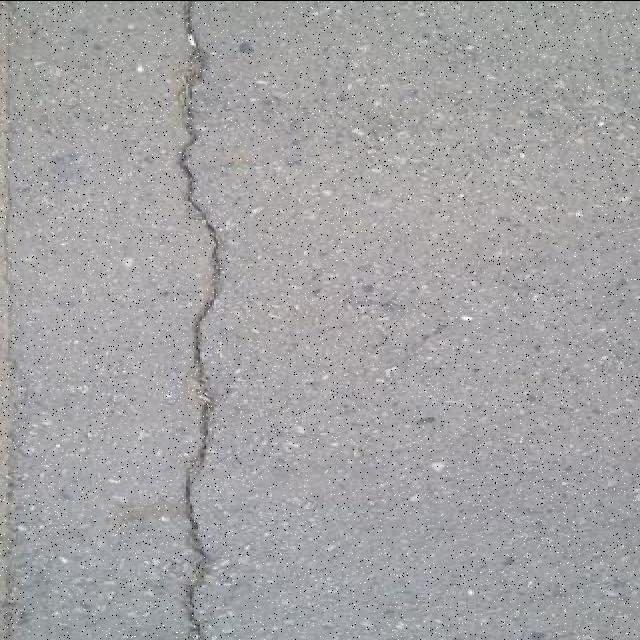Crack: (176, 2, 221, 637)
